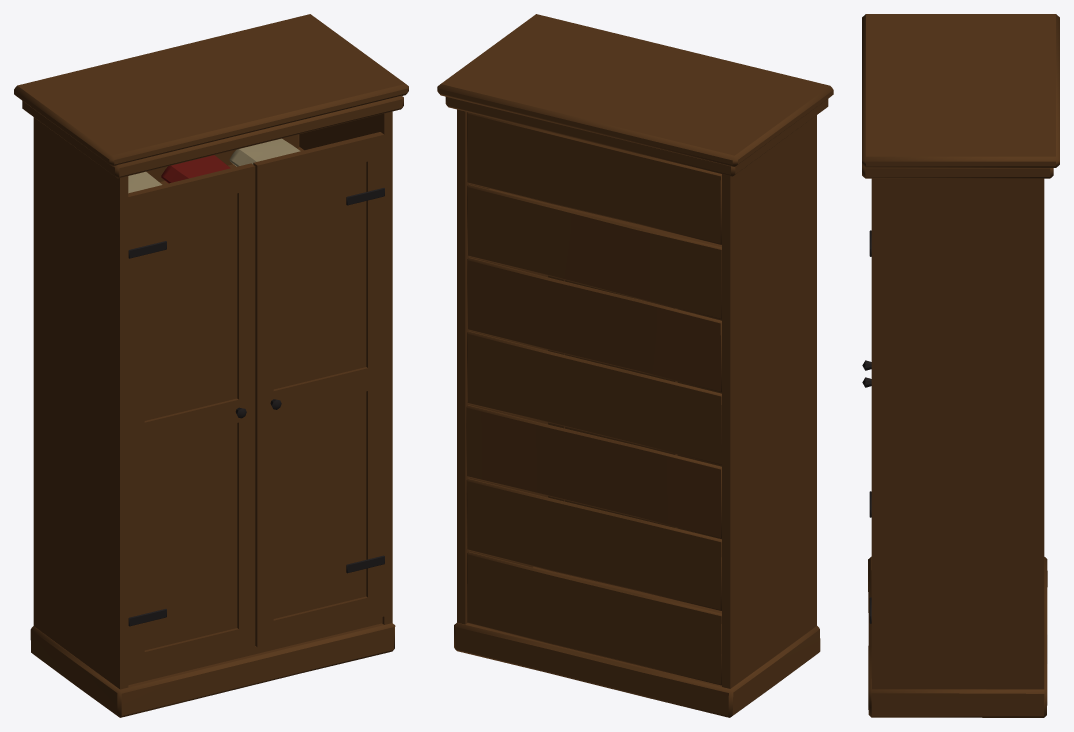
File: schrank.glb
The picture shows the model from 3 angles, left to right: view 1: azimuth 30°, elevation 25°; view 2: azimuth 150°, elevation 25°; view 3: azimuth 270°, elevation 25°; orthographic projection.
Parts seen in each view (by area): view 1: schrank; view 2: schrank; view 3: schrank.
Part boxes in pixels (x1,y1,x2,y2): schrank: (14, 14, 408, 717); schrank: (437, 14, 833, 717); schrank: (862, 14, 1059, 717).
Size of the model in its own units: 1.1 by 1.99 by 0.63.
